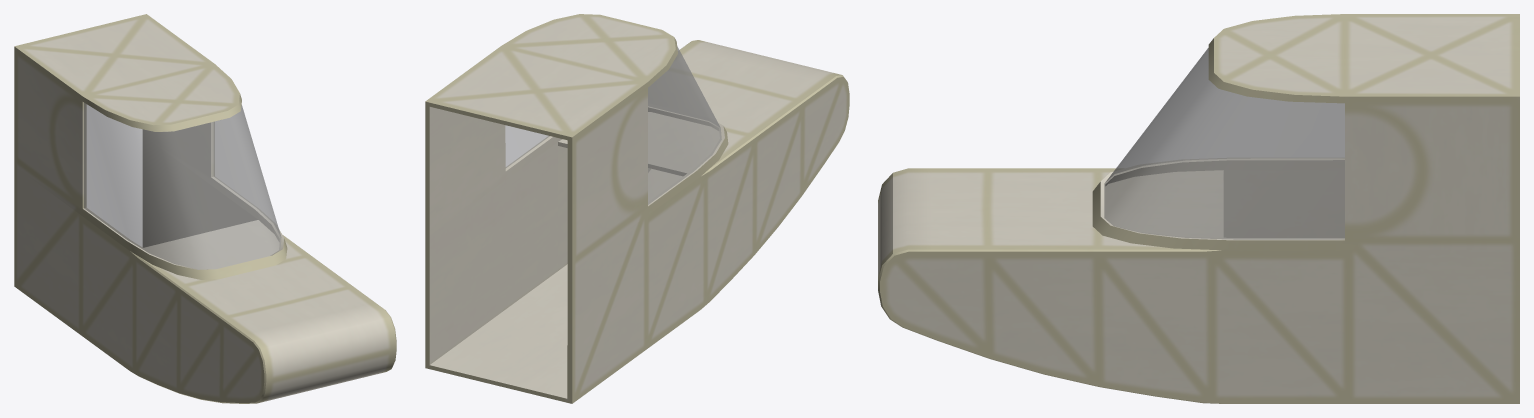
The model's file is Cheap_Cockpit_TypeN.fbx.
3 views of the same model, side by side, from view 1: azimuth 30°, elevation 25°; view 2: azimuth 150°, elevation 25°; view 3: azimuth 270°, elevation 25° (orthographic). The views are drawn at different scales.
Visible parts, largest first — view 1: Cheap_Cockpit_TypeN_mesh, windsheild; view 2: Cheap_Cockpit_TypeN_mesh, windsheild; view 3: Cheap_Cockpit_TypeN_mesh, windsheild.
Part boxes in pixels (<box>): Cheap_Cockpit_TypeN_mesh: <box>14,14,396,403</box>; windsheild: <box>84,103,281,269</box>; Cheap_Cockpit_TypeN_mesh: <box>425,14,849,403</box>; windsheild: <box>505,46,721,204</box>; Cheap_Cockpit_TypeN_mesh: <box>878,14,1519,403</box>; windsheild: <box>1104,48,1344,239</box>.
Size of the model in its own units: 10.78 by 18.67 by 35.34.
